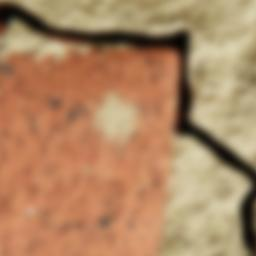brick: (0, 46, 179, 255), (49, 38, 90, 45), (0, 28, 7, 35)
crack: (0, 1, 255, 255)
